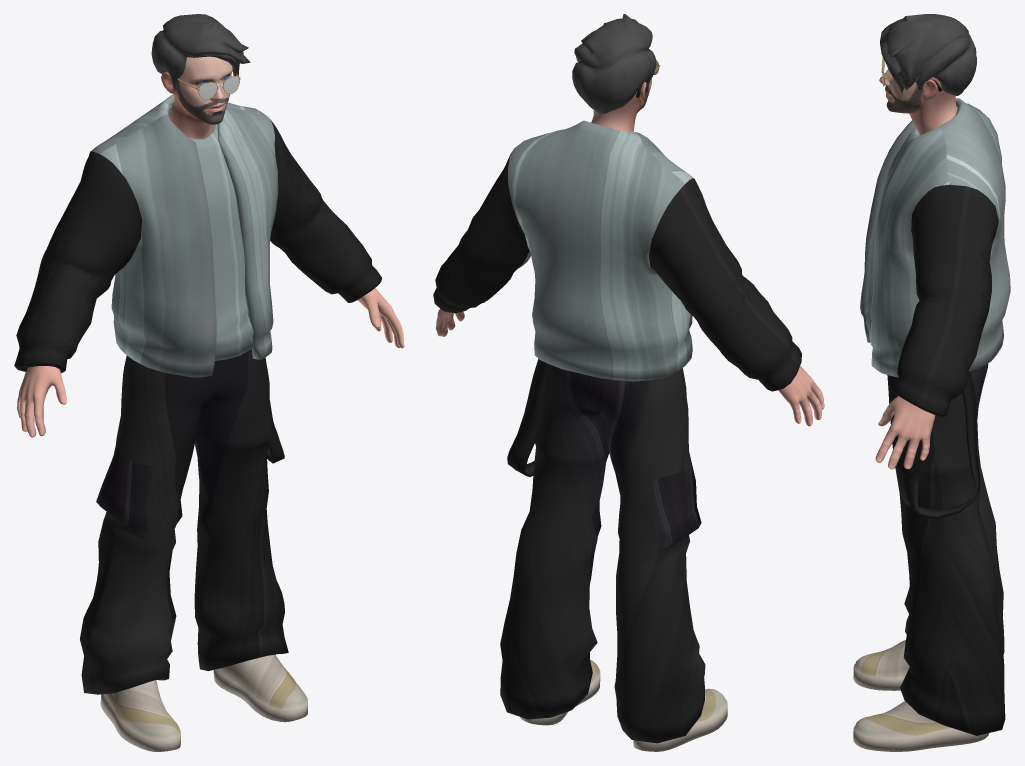
Rendered from idle.fbx.
The picture shows the model from 3 angles, left to right: view 1: azimuth 30°, elevation 25°; view 2: azimuth 150°, elevation 25°; view 3: azimuth 270°, elevation 25°; orthographic projection.
Visible parts, largest first — view 1: Wolf3D_Outfit_Top, Wolf3D_Outfit_Bottom, Wolf3D_Outfit_Footwear, Wolf3D_Hair, Wolf3D_Head, Wolf3D_Body; view 2: Wolf3D_Outfit_Top, Wolf3D_Outfit_Bottom, Wolf3D_Hair, Wolf3D_Outfit_Footwear, Wolf3D_Body, Wolf3D_Head; view 3: Wolf3D_Outfit_Top, Wolf3D_Outfit_Bottom, Wolf3D_Hair, Wolf3D_Outfit_Footwear, Wolf3D_Body, Wolf3D_Head.
Part boxes in pixels (x1,y1,x2,y2): Wolf3D_Outfit_Top: (14,94,381,377); Wolf3D_Outfit_Bottom: (80,349,288,694); Wolf3D_Outfit_Footwear: (100,654,307,751); Wolf3D_Hair: (151,14,250,90); Wolf3D_Head: (161,56,232,138); Wolf3D_Body: (17,288,404,437); Wolf3D_Outfit_Top: (433,120,801,391); Wolf3D_Outfit_Bottom: (500,359,705,743); Wolf3D_Hair: (572,14,656,114); Wolf3D_Outfit_Footwear: (520,659,727,751); Wolf3D_Body: (436,302,824,426); Wolf3D_Head: (591,78,651,131); Wolf3D_Outfit_Top: (860,98,1010,417); Wolf3D_Outfit_Bottom: (887,363,1005,735); Wolf3D_Hair: (880,14,976,96); Wolf3D_Outfit_Footwear: (853,640,988,751); Wolf3D_Body: (875,396,935,469); Wolf3D_Head: (879,69,957,135).
Bounding box in the file's own units: 1.06 × 1.88 × 0.3845.
Materials: 9 (9 with a texture image).
